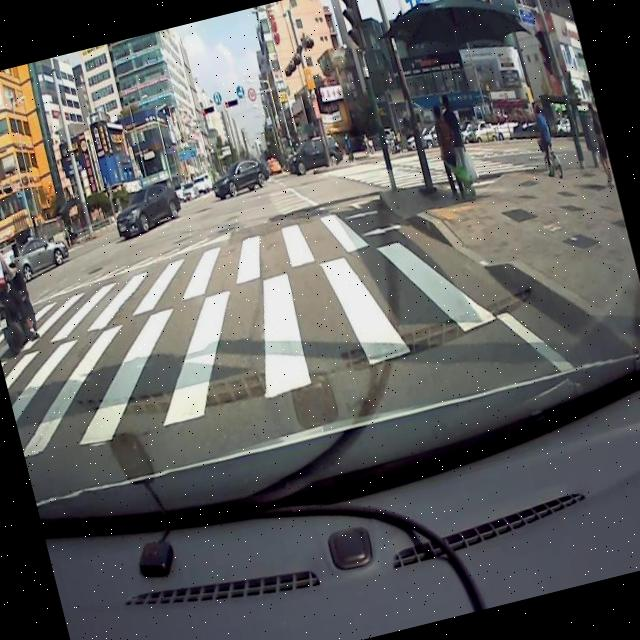crosswalk: (0, 199, 498, 457), (319, 149, 541, 192)
